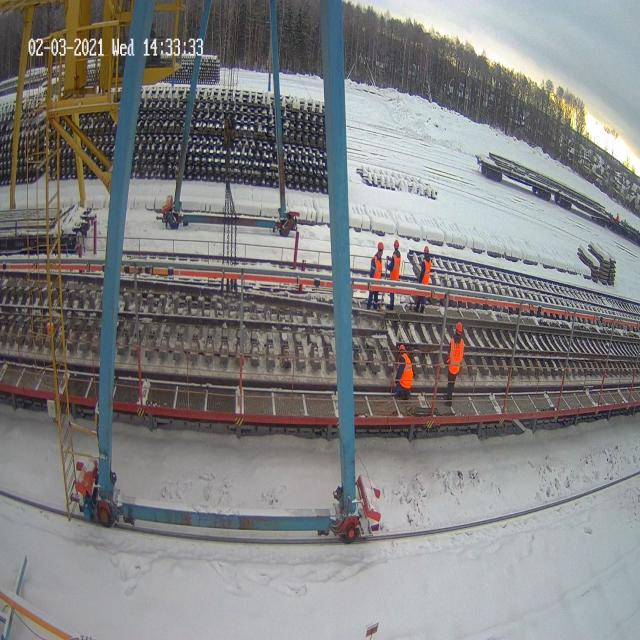Helmet: (456, 322, 462, 334), (398, 344, 405, 353), (424, 245, 429, 253), (378, 242, 383, 250), (394, 239, 398, 248)
Person: (444, 321, 464, 415), (366, 241, 384, 310), (414, 245, 432, 313), (391, 344, 413, 399), (385, 239, 401, 310)
